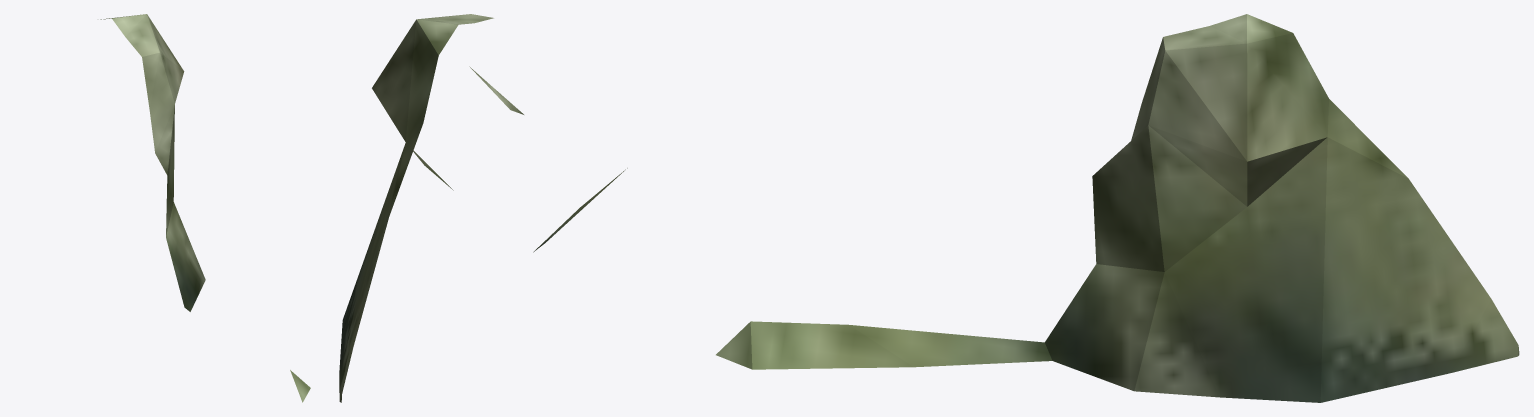
3 renders of one model, left to right at view 1: azimuth 30°, elevation 25°; view 2: azimuth 150°, elevation 25°; view 3: azimuth 270°, elevation 25°, orthographic. The views are drawn at different scales.
Size of the model in its own units: 0.2172 by 0.7003 by 1.5.
Materials: 1 (1 with a texture image).
